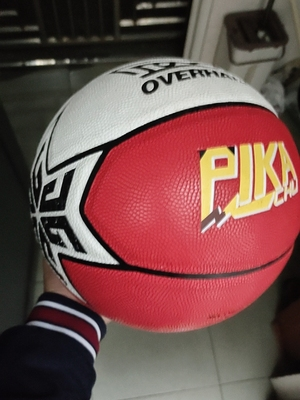ball: (28, 57, 300, 333)
